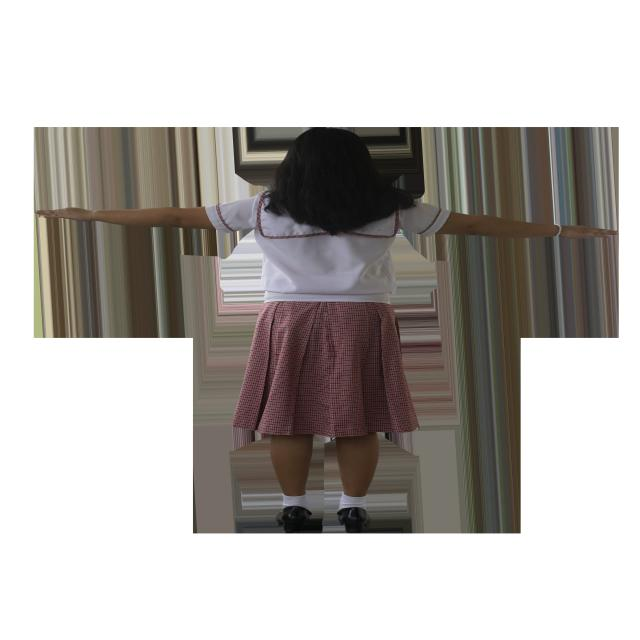pologirl: (206, 191, 450, 303)
shoes: (276, 506, 312, 533), (337, 507, 370, 533)
skirt: (232, 301, 418, 437)
